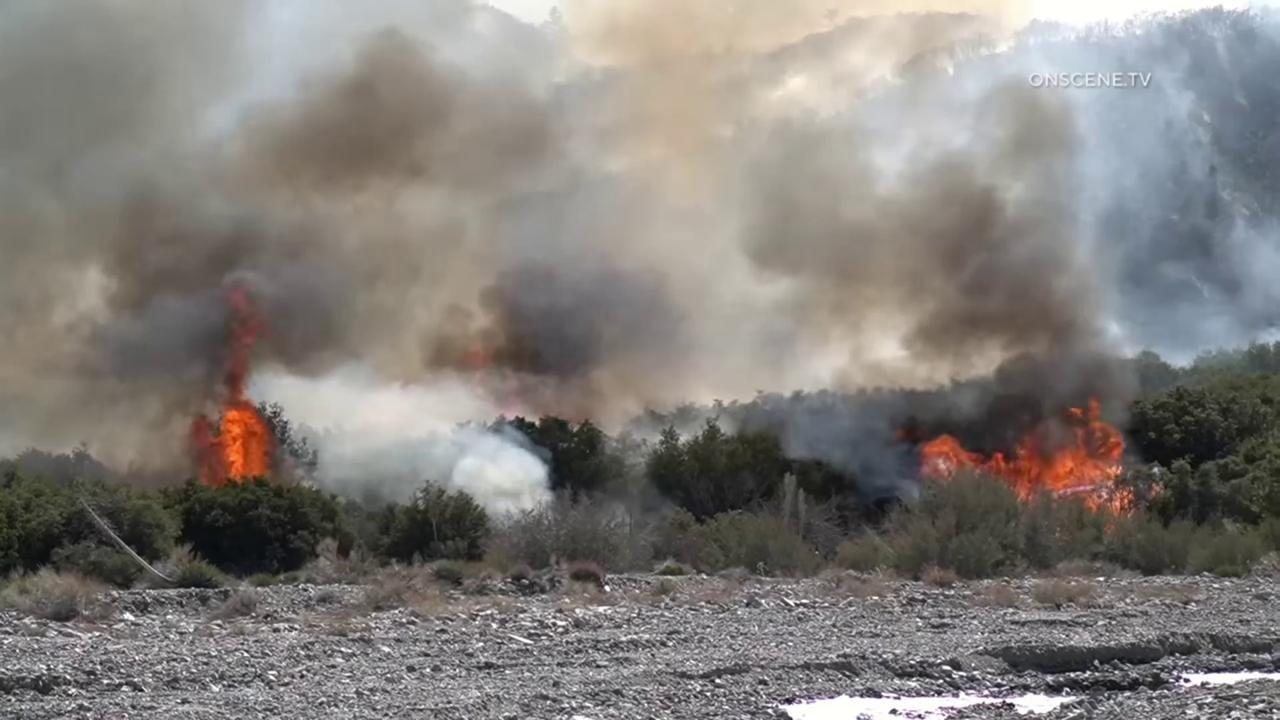fire: (920, 395, 1136, 532), (192, 286, 273, 487), (1150, 479, 1166, 498)
smoke: (0, 0, 1280, 536)
